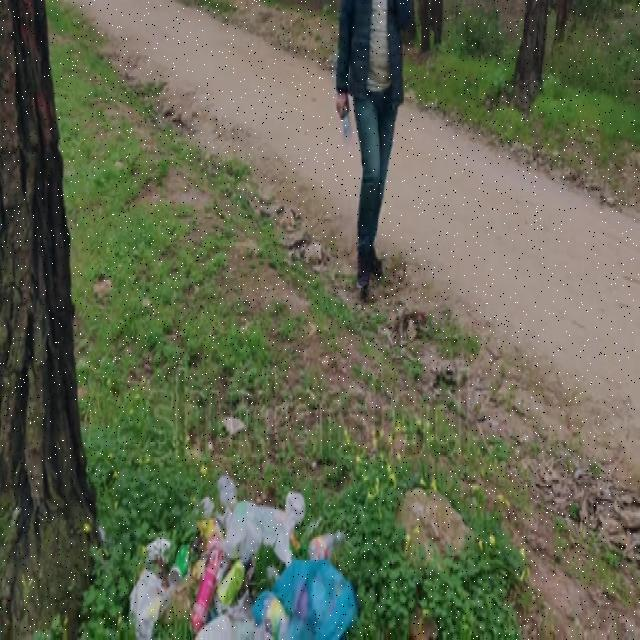garbage_dumping: (124, 485, 358, 640), (340, 100, 353, 142)
